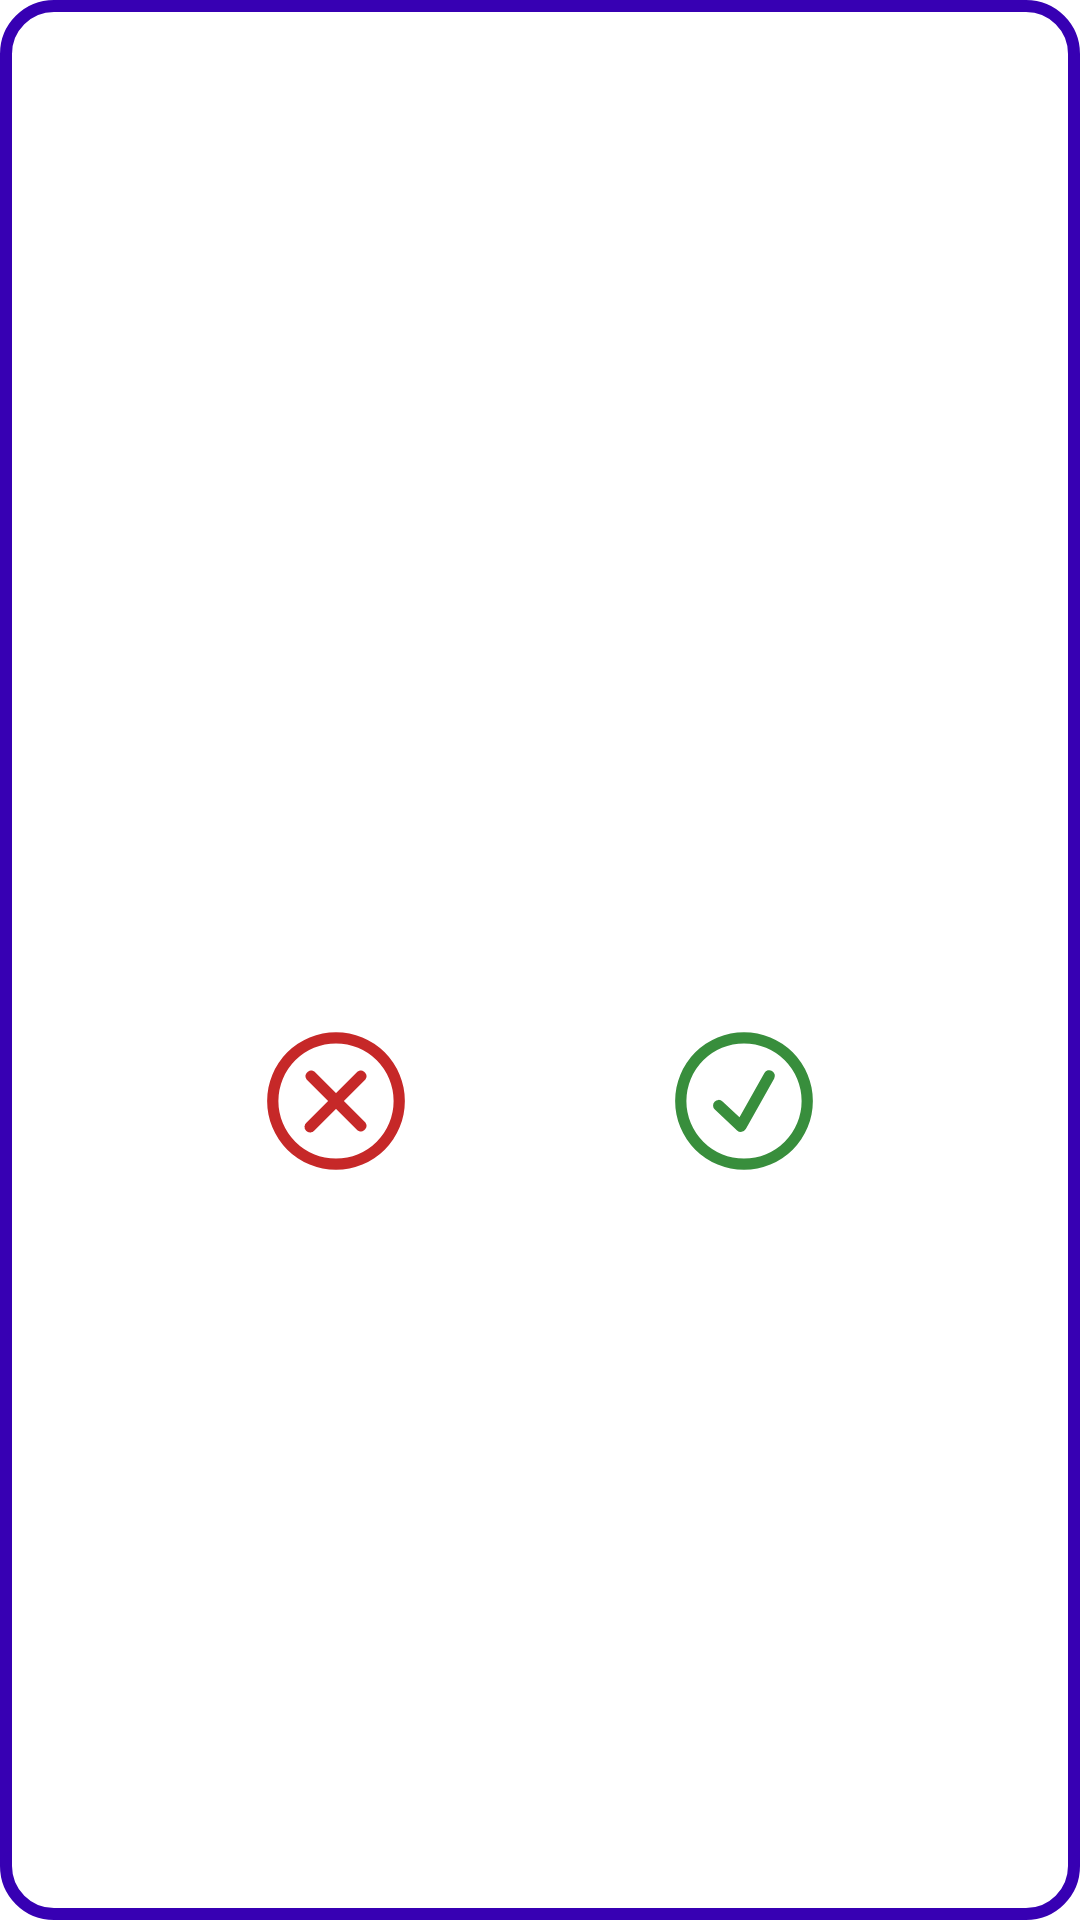

Icons on this 1080 x 1920 Android screen, each with its box as (x1, y1, x2, y2):
negative state: (267, 1032, 405, 1170)
positive state: (675, 1032, 813, 1170)
